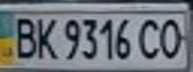1: (97, 16, 118, 61)
3: (78, 16, 100, 61)
6: (112, 16, 139, 61)
9: (60, 15, 81, 61)
B: (9, 14, 39, 61)
C: (136, 16, 166, 61)
K: (30, 15, 57, 61)
O: (154, 15, 190, 61)
